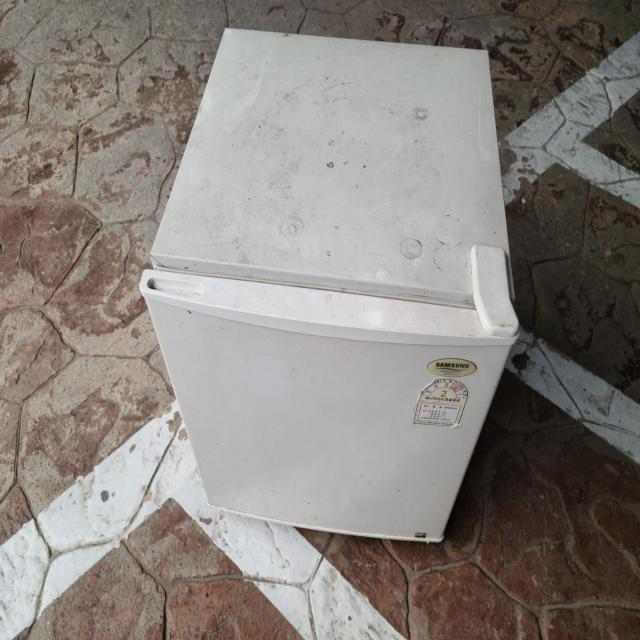refrigerator: (138, 26, 522, 545)
